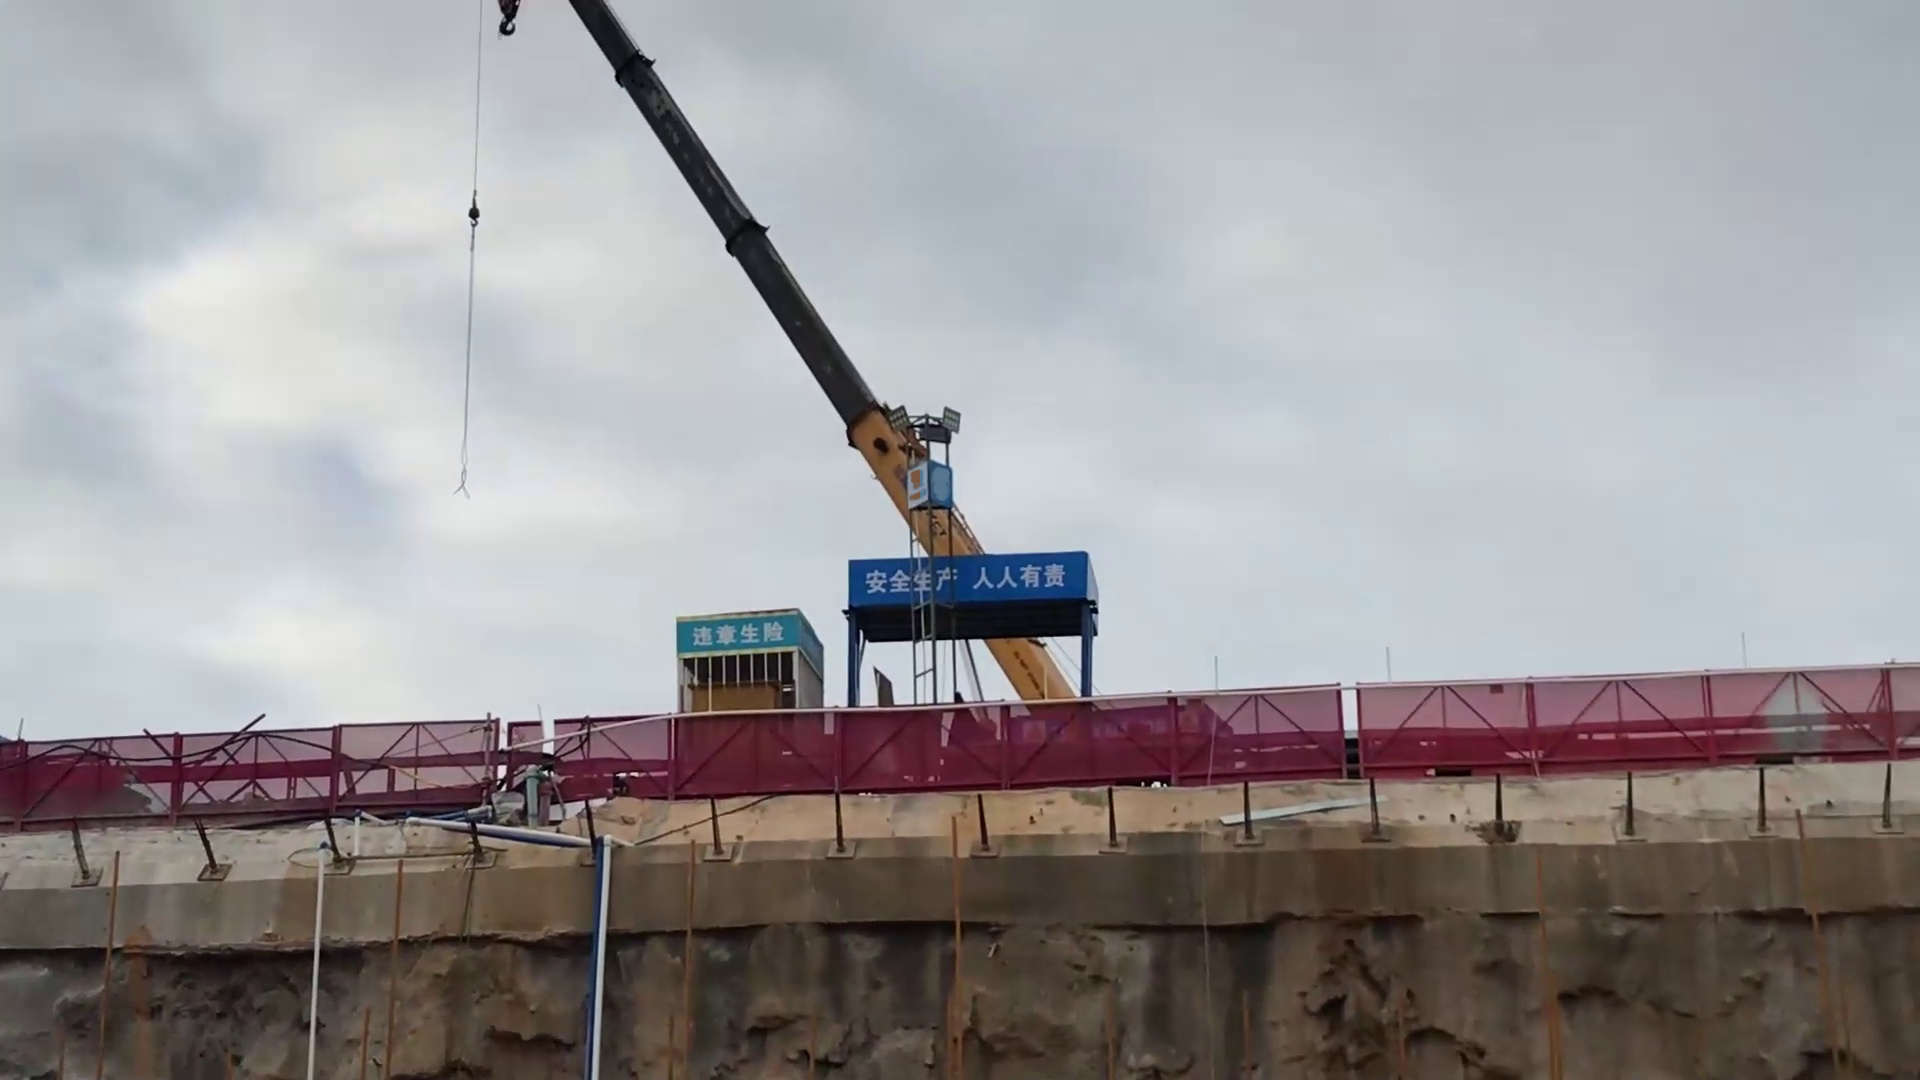fence: (7, 686, 1204, 839), (1213, 629, 1913, 804)
hook: (475, 1, 527, 40)
slogan: (848, 542, 1095, 636), (655, 597, 803, 675)
